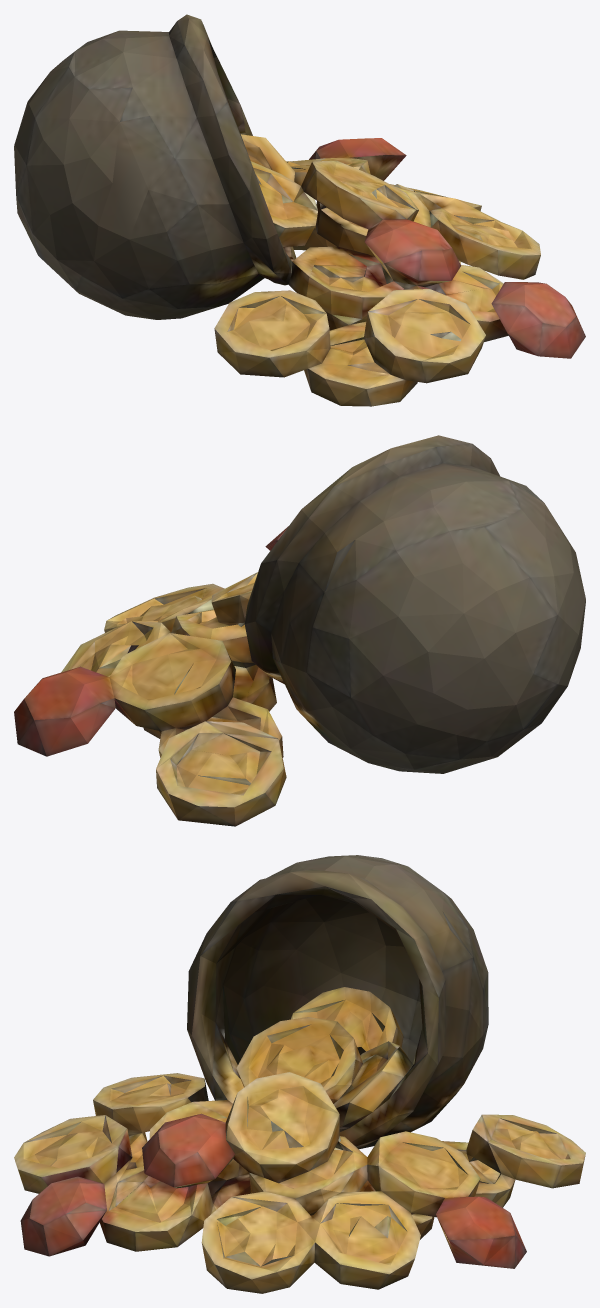
Rendered from coin_heap.glb.
3 renders of one model, top to bottom at view 1: azimuth 30°, elevation 25°; view 2: azimuth 150°, elevation 25°; view 3: azimuth 270°, elevation 25°, orthographic. The views are drawn at different scales.
Parts seen in each view (by area): view 1: tripo_node_2f568a28-fbb4-4302-8a49-933d1a4a3c8f.001; view 2: tripo_node_2f568a28-fbb4-4302-8a49-933d1a4a3c8f.001; view 3: tripo_node_2f568a28-fbb4-4302-8a49-933d1a4a3c8f.001.
Boxes of the visible parts, x1,y1,x2,y2 form: tripo_node_2f568a28-fbb4-4302-8a49-933d1a4a3c8f.001: (14, 14, 585, 406); tripo_node_2f568a28-fbb4-4302-8a49-933d1a4a3c8f.001: (14, 435, 585, 826); tripo_node_2f568a28-fbb4-4302-8a49-933d1a4a3c8f.001: (14, 855, 585, 1293).
Size of the model in its own units: 0.917 by 0.5418 by 0.9983.
Materials: 1 (1 with a texture image).
